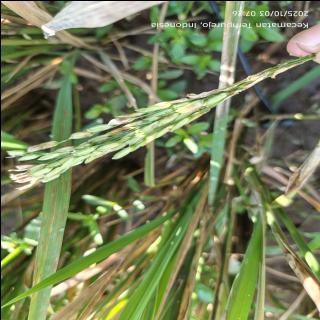Busuk-Bulir: (185, 85, 225, 97), (27, 140, 57, 151), (108, 126, 133, 134), (107, 117, 134, 124), (26, 163, 46, 172), (116, 111, 143, 117), (69, 131, 90, 138), (54, 145, 77, 150)
